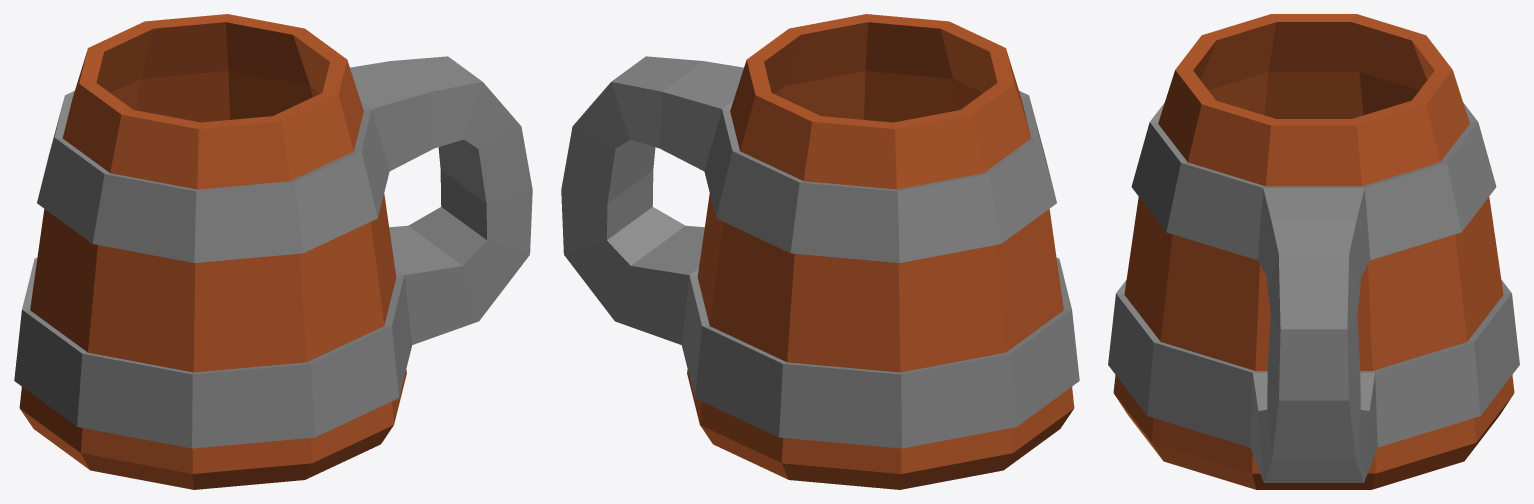
Rendered from mug.fbx.
3 renders of one model, left to right at view 1: azimuth 30°, elevation 25°; view 2: azimuth 150°, elevation 25°; view 3: azimuth 270°, elevation 25°, orthographic.
Visible parts, largest first — view 1: Cylinder, Cylinder.001; view 2: Cylinder, Cylinder.001; view 3: Cylinder, Cylinder.001.
Boxes of the visible parts, <box> form: Cylinder: <box>19,14,406,489</box>; Cylinder.001: <box>14,56,532,448</box>; Cylinder: <box>687,14,1074,489</box>; Cylinder.001: <box>561,56,1079,448</box>; Cylinder: <box>1113,14,1514,489</box>; Cylinder.001: <box>1108,103,1519,482</box>.
Size of the model in its own units: 194 by 135 by 146.
